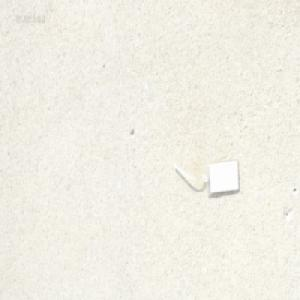LuggageTag: (169, 156, 240, 198)
